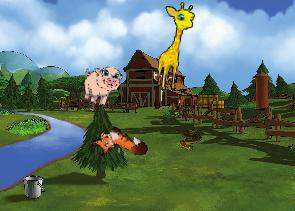fox: (88, 118, 150, 174)
giraffe: (155, 0, 196, 93)
pig: (77, 61, 125, 111)
